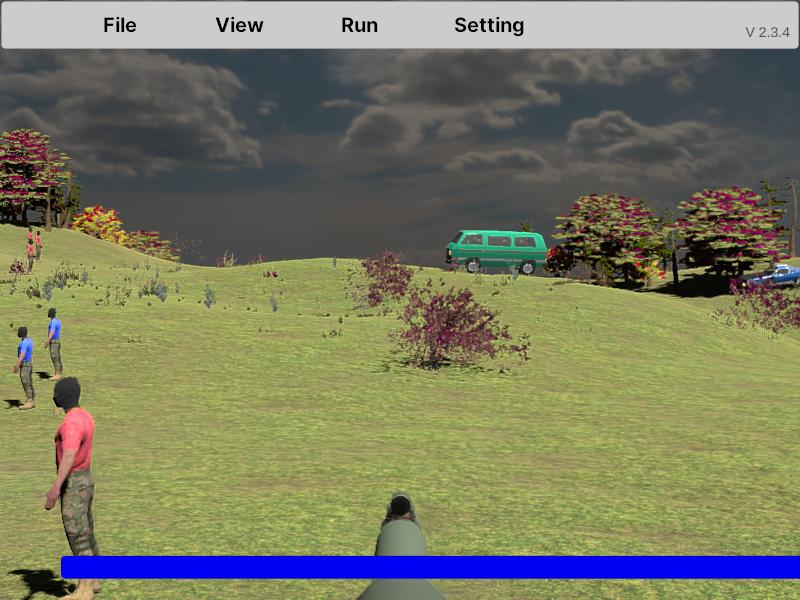Human: (45, 376, 99, 599), (14, 325, 36, 409), (45, 306, 62, 382)
car: (446, 230, 547, 277), (738, 263, 800, 296), (737, 263, 800, 295)
